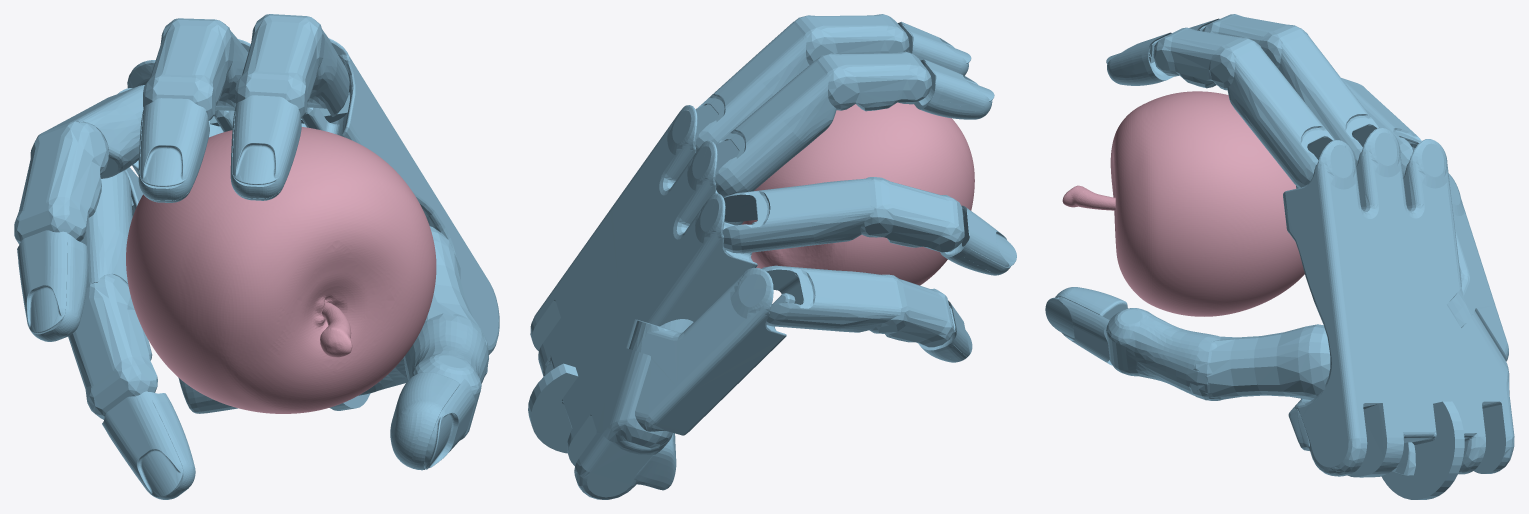
3 renders of one model, left to right at view 1: azimuth 30°, elevation 25°; view 2: azimuth 150°, elevation 25°; view 3: azimuth 270°, elevation 25°, orthographic. The views are drawn at different scales.
Parts seen in each view (by area): view 1: world, apple.stl; view 2: world, apple.stl; view 3: world, apple.stl.
Part boxes in pixels (left/top/right/bottom): world: left=14, top=14, right=499, bottom=499; apple.stl: left=126, top=127, right=436, bottom=413; world: left=528, top=14, right=1016, bottom=499; apple.stl: left=742, top=102, right=974, bottom=285; world: left=1045, top=14, right=1514, bottom=499; apple.stl: left=1062, top=91, right=1304, bottom=316.
Size of the model in its own units: 0.1601 by 0.1465 by 0.1589.
